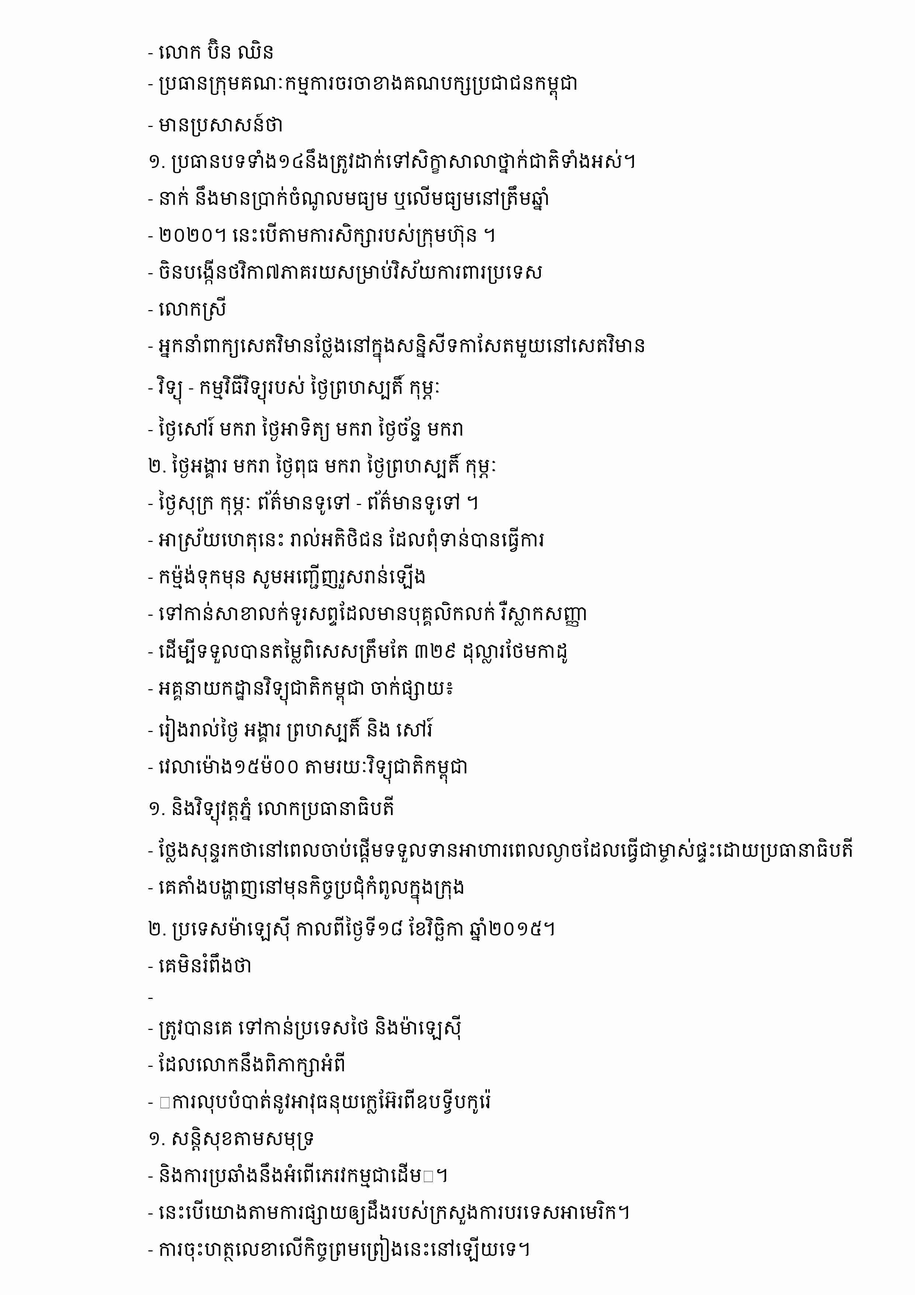text: (148, 837, 859, 863), (148, 333, 651, 363), (148, 148, 641, 174), (148, 1199, 635, 1225), (148, 600, 593, 627), (148, 638, 573, 664), (148, 75, 583, 100), (148, 1234, 536, 1262), (148, 185, 555, 211), (148, 259, 548, 285), (148, 916, 561, 941), (148, 527, 550, 552), (148, 755, 473, 784), (148, 875, 470, 904), (148, 374, 446, 405), (148, 222, 501, 248), (148, 676, 460, 705), (148, 453, 503, 478), (148, 1089, 496, 1114), (148, 490, 484, 515), (148, 416, 469, 442), (148, 1015, 467, 1040), (148, 1162, 453, 1188), (148, 715, 438, 742), (148, 796, 400, 826), (148, 564, 431, 589), (148, 1052, 351, 1077), (148, 1126, 320, 1151), (148, 113, 289, 137), (148, 38, 279, 59), (148, 296, 232, 321), (148, 953, 257, 972), (148, 998, 158, 1003)
